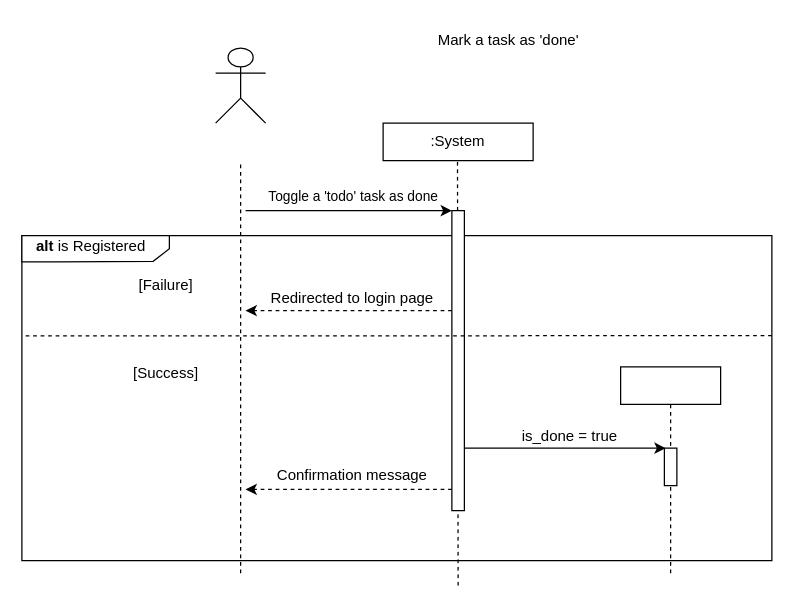
Some shapes in this 795 by 609 pixel diagram are drawn without their labels. The centre of each missing label's shape, as x and y in pixels:
:Task: point 670,385
User: point 240,85
